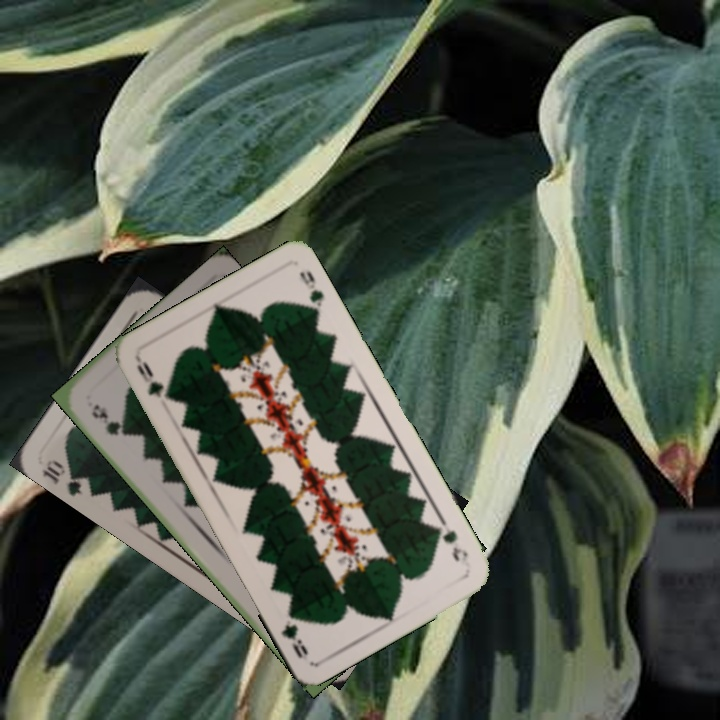G10: (37, 455, 94, 498)
G9: (430, 515, 473, 570), (132, 355, 175, 403), (87, 400, 129, 439)
